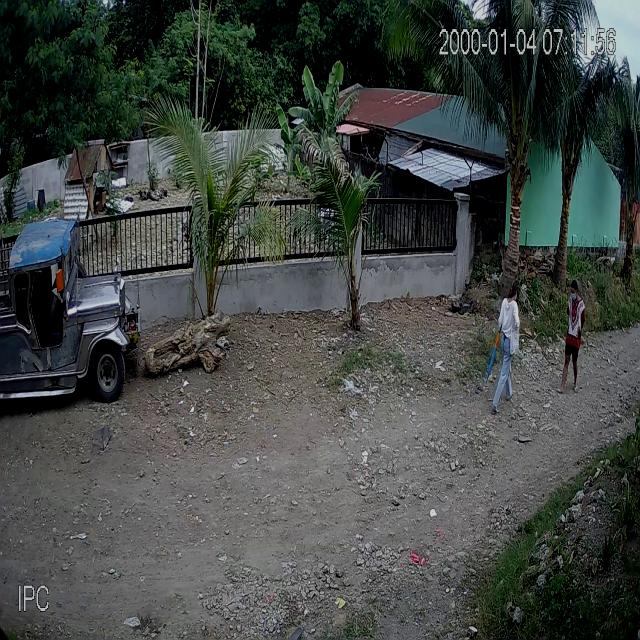walking: (481, 278, 522, 419), (554, 276, 590, 396)
